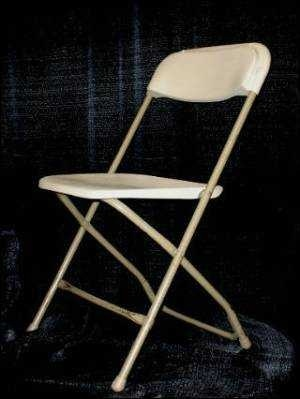obstacle: (27, 43, 270, 391)
